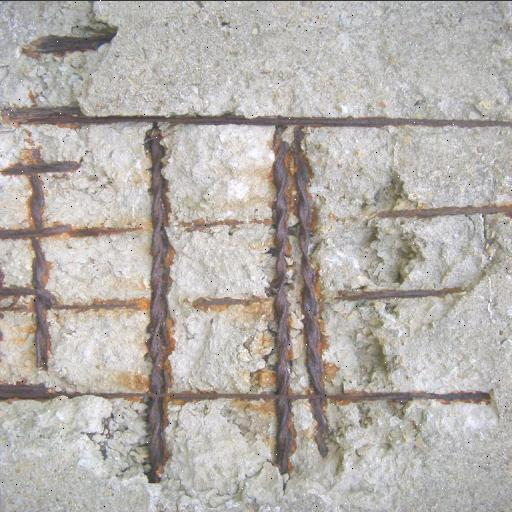spalling: (7, 3, 503, 496)
